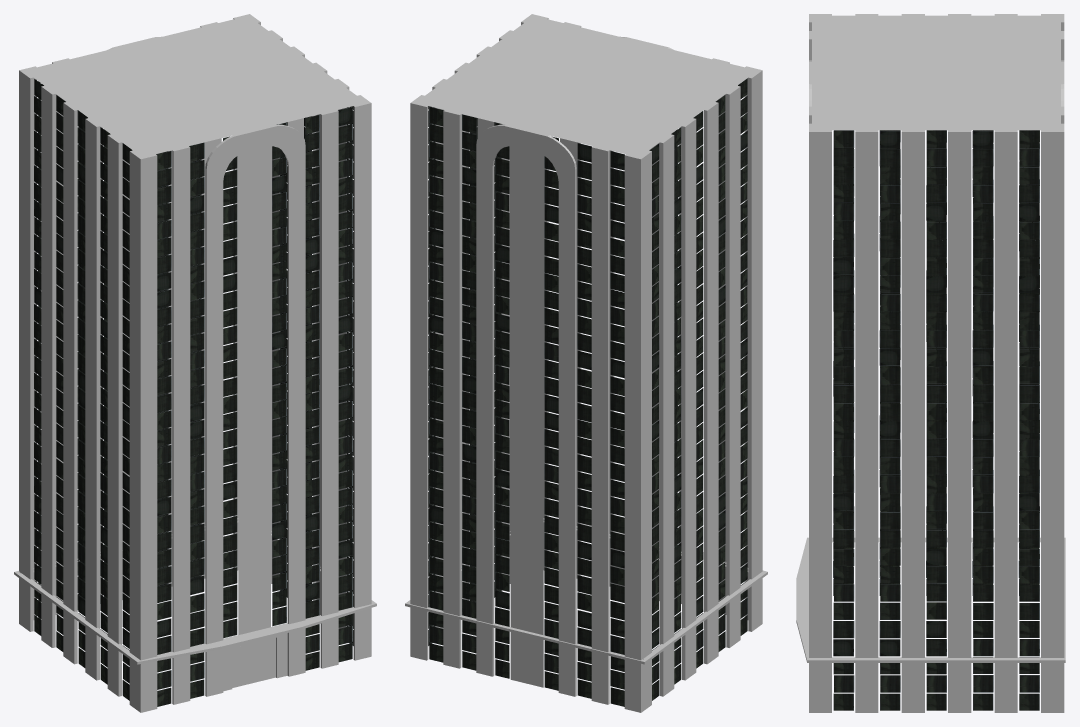
The picture shows the model from 3 angles, left to right: view 1: azimuth 30°, elevation 25°; view 2: azimuth 150°, elevation 25°; view 3: azimuth 270°, elevation 25°; orthographic projection. The views are drawn at different scales.
Parts seen in each view (by area): view 1: BC-024; view 2: BC-024; view 3: BC-024.
Part boxes in pixels (bbox=[...]): BC-024: bbox=[14, 14, 376, 712]; BC-024: bbox=[405, 14, 767, 712]; BC-024: bbox=[796, 14, 1065, 712].
Size of what is drawn, in the model's own units: 16.3 by 36 by 15.13.
